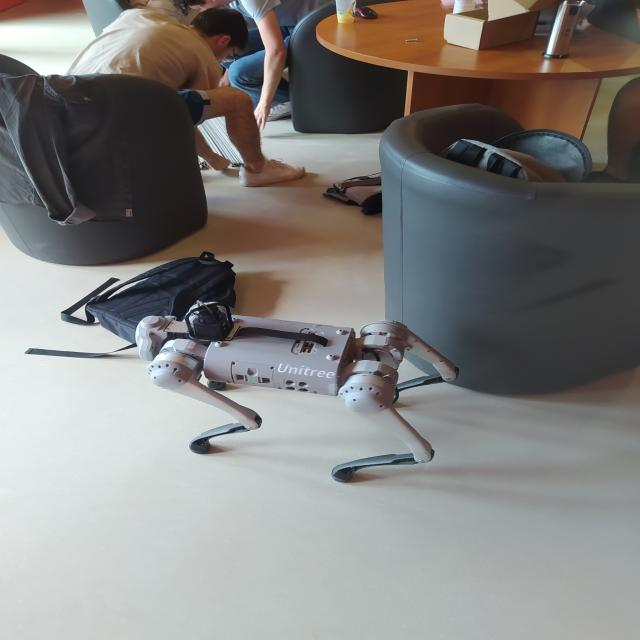unitree-go1-robot: (131, 302, 468, 493)
